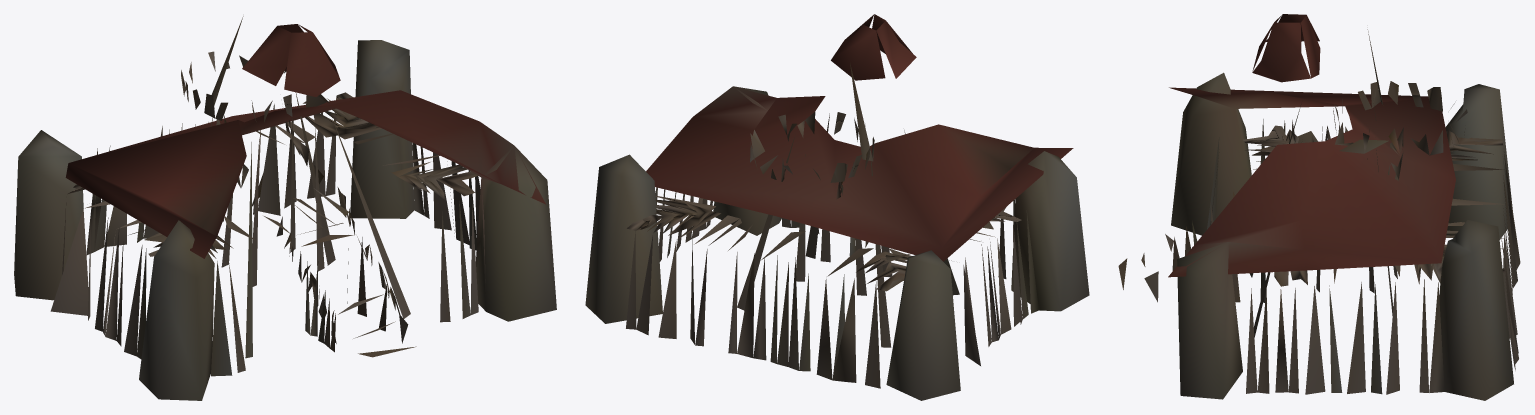
The model's file is monumento_g_lejos.glb.
The picture shows the model from 3 angles, left to right: view 1: azimuth 30°, elevation 25°; view 2: azimuth 150°, elevation 25°; view 3: azimuth 270°, elevation 25°; orthographic projection. The views are drawn at different scales.
Visible parts, largest first — view 1: monumento_g_lejos; view 2: monumento_g_lejos; view 3: monumento_g_lejos.
Part boxes in pixels (box(x1,y1,x2,y2)): monumento_g_lejos: box(14, 16, 556, 400); monumento_g_lejos: box(585, 14, 1089, 400); monumento_g_lejos: box(1118, 14, 1520, 400).
Bounding box in the file's own units: 20.64 × 14.73 × 18.4.
